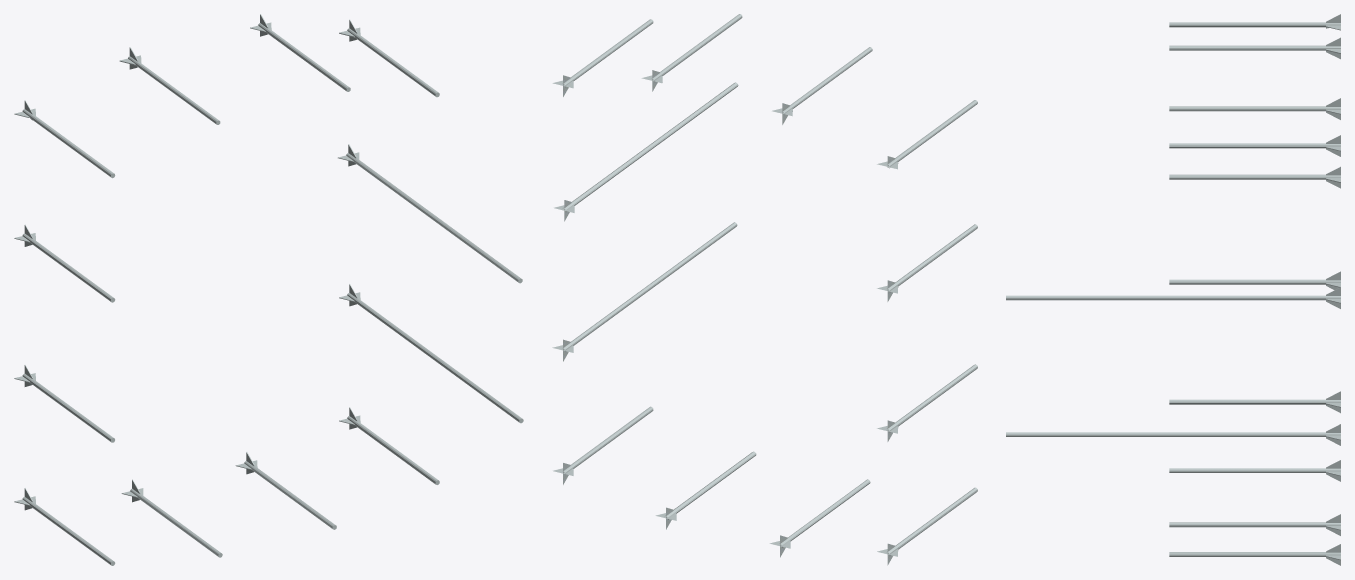
Rendered from jg-sbzj-010-geode.glb.
3 renders of one model, left to right at view 1: azimuth 30°, elevation 25°; view 2: azimuth 150°, elevation 25°; view 3: azimuth 270°, elevation 25°, orthographic. The views are drawn at different scales.
Parts seen in each view (by area): view 1: Node; view 2: Node; view 3: Node.
Boxes of the visible parts, x1,y1,x2,y2 form: Node: (14,14,523,565); Node: (552,14,977,565); Node: (1006,14,1340,565).
Size of the model in its own units: 9.2 by 11.61 by 7.93.
Materials: 1 (1 with a texture image).
